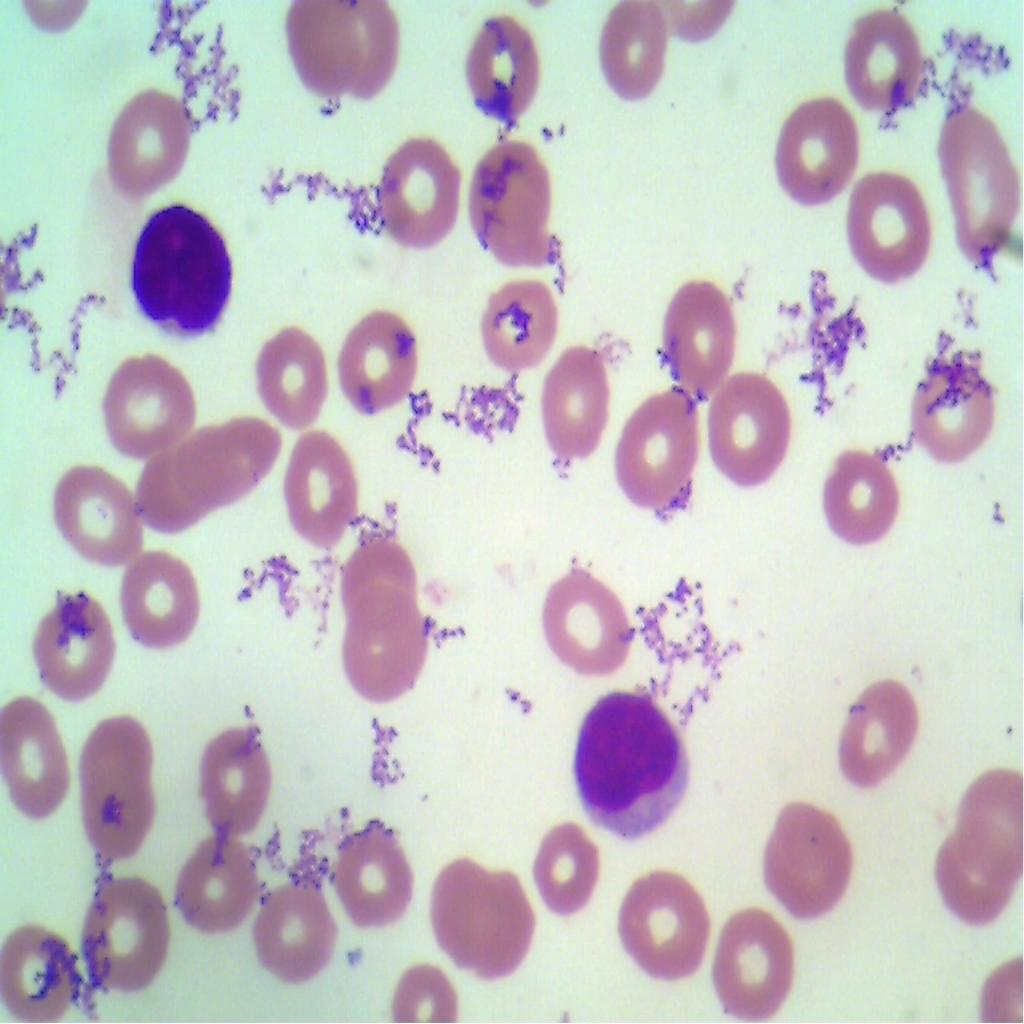Eritrosit: (935, 95, 1023, 272), (367, 122, 463, 268), (540, 557, 645, 690), (762, 79, 870, 207), (70, 711, 159, 864), (448, 4, 548, 136), (762, 802, 864, 931), (462, 138, 568, 261), (614, 865, 716, 989), (73, 871, 177, 991), (245, 875, 352, 991), (834, 655, 920, 797), (708, 892, 800, 1023), (905, 342, 997, 470), (702, 371, 799, 492), (607, 376, 692, 514), (333, 301, 427, 424), (246, 308, 338, 432), (94, 352, 200, 459), (26, 589, 122, 707), (192, 719, 282, 842), (102, 82, 200, 194), (652, 277, 740, 401), (327, 811, 417, 932), (589, 0, 681, 118), (836, 2, 930, 114), (342, 589, 436, 701), (42, 461, 140, 568), (843, 167, 928, 287), (276, 431, 366, 544), (0, 691, 74, 828), (168, 829, 262, 934), (115, 547, 208, 652), (532, 344, 615, 461), (813, 444, 899, 554), (932, 829, 1023, 932), (337, 528, 425, 634), (470, 275, 570, 368), (323, 0, 408, 103), (466, 874, 540, 984), (532, 812, 602, 928), (280, 0, 362, 98), (427, 851, 498, 962), (3, 917, 75, 1023), (957, 754, 1023, 864), (378, 954, 467, 1023), (210, 408, 282, 490), (170, 421, 232, 512), (134, 448, 198, 534)
Limfoblast: (123, 198, 243, 342)
Limfosit: (560, 687, 706, 850)
